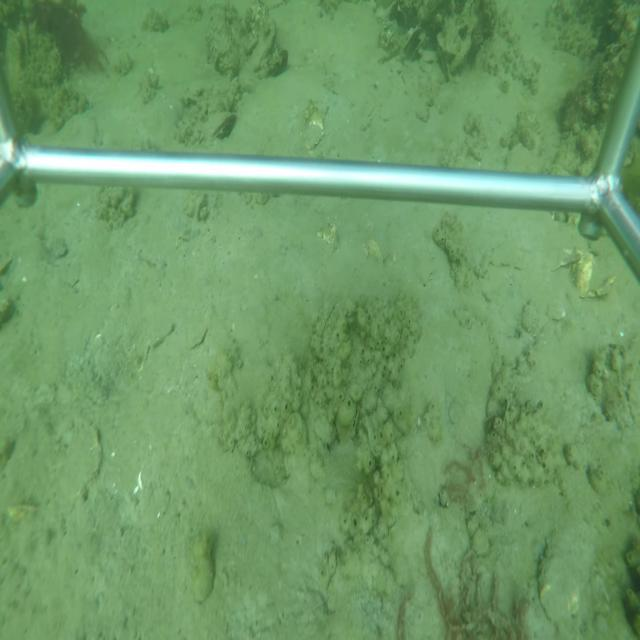Oyster-Closed: (238, 16, 277, 89), (208, 110, 240, 140), (435, 43, 453, 86), (348, 406, 361, 440)
Oyster-Indeterminate: (536, 514, 599, 629), (193, 547, 214, 607)
Oyster-Open: (400, 23, 430, 63)
